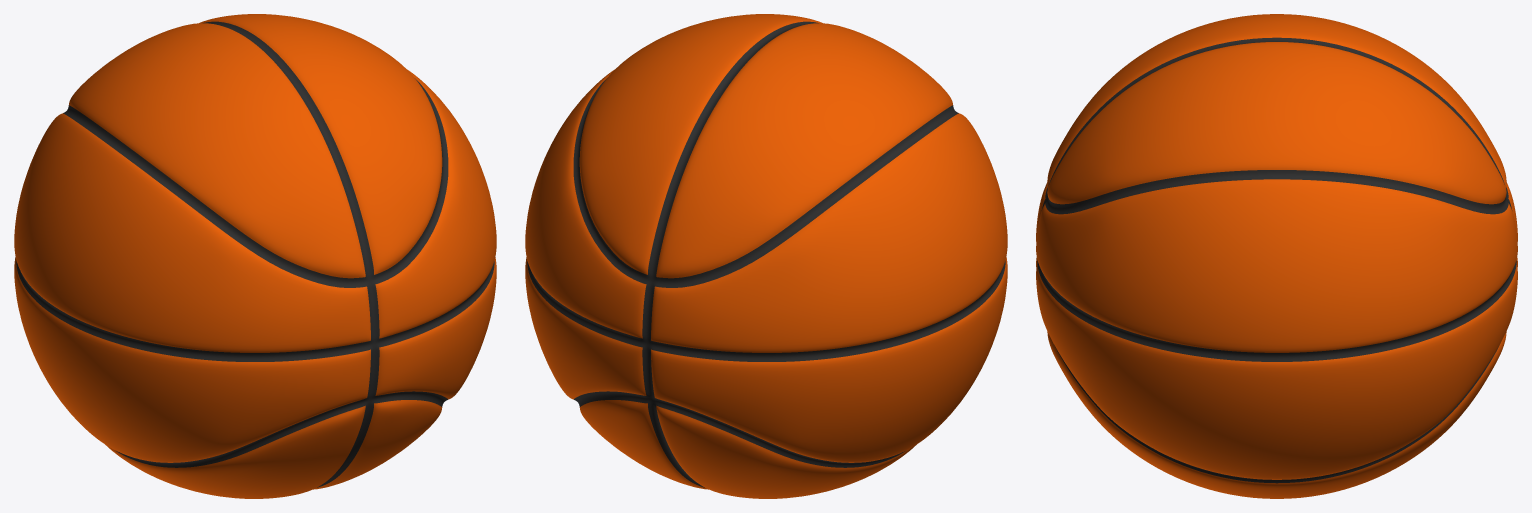
File: basketball.glb
3 renders of one model, left to right at view 1: azimuth 30°, elevation 25°; view 2: azimuth 150°, elevation 25°; view 3: azimuth 270°, elevation 25°, orthographic.
Visible parts, largest first — view 1: Cube; view 2: Cube; view 3: Cube.
Part boxes in pixels (x1,y1,x2,y2): Cube: (14, 14, 496, 498); Cube: (525, 14, 1007, 498); Cube: (1036, 14, 1517, 498).
Size of the model in its own units: 4.19 by 4.19 by 4.19.
